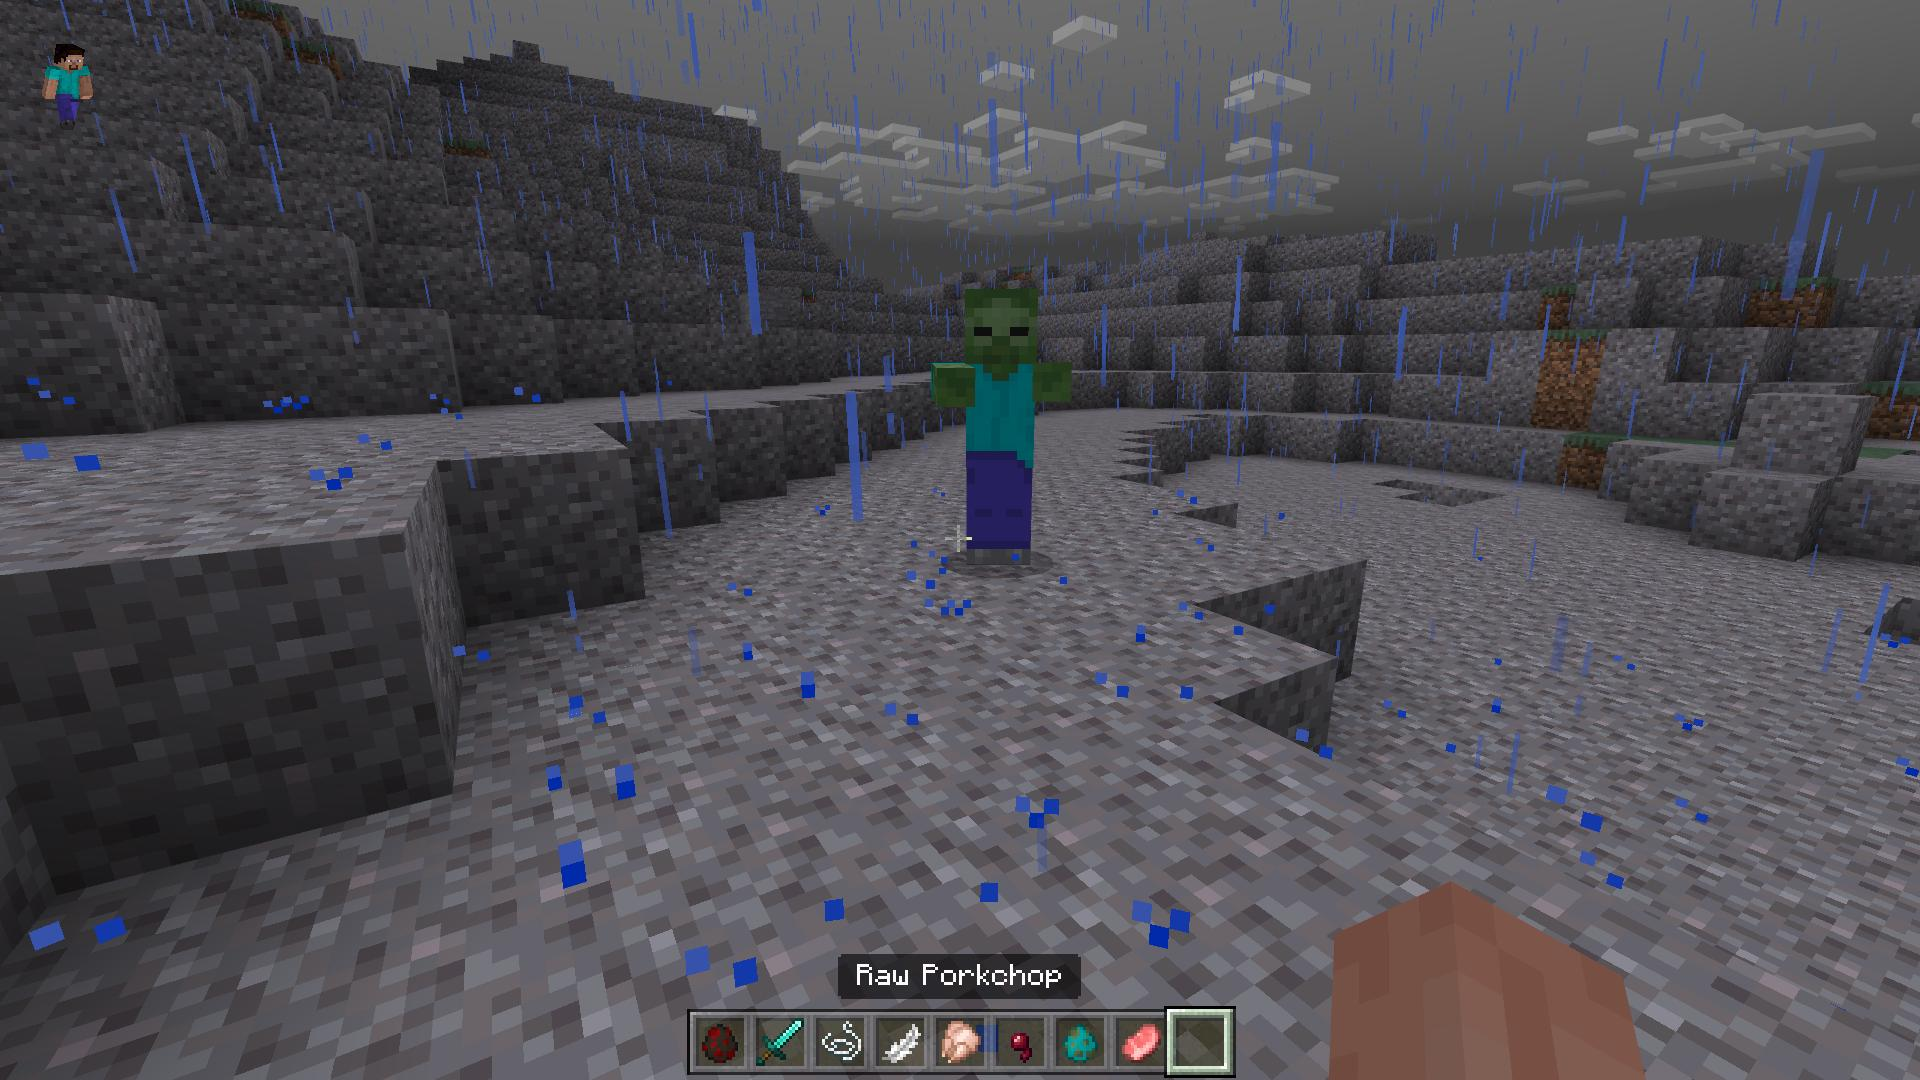zombie: (936, 285, 1069, 574)
